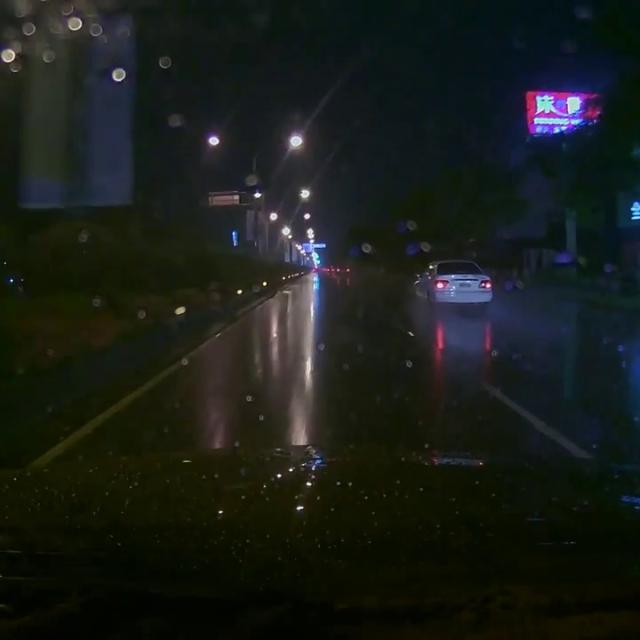Car: (405, 255, 495, 312)
